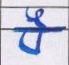ai_matra: (25, 7, 48, 27)
